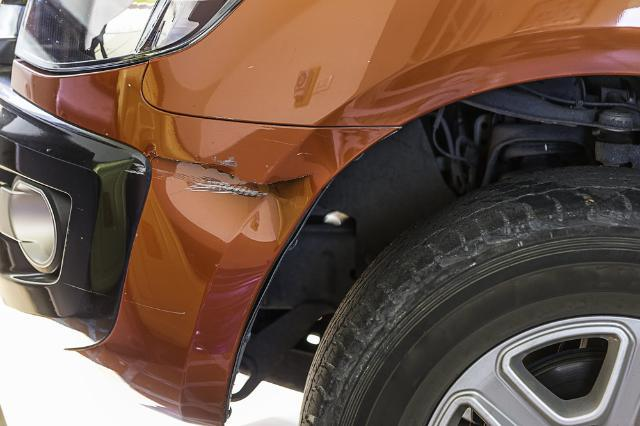crack: (151, 156, 311, 187)
dent: (165, 163, 311, 241)
